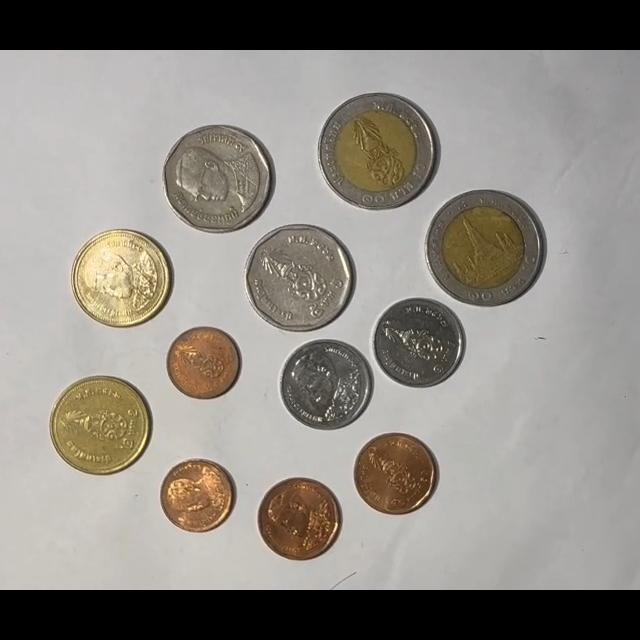1-baht: (279, 339, 373, 432), (372, 297, 465, 389)
10-baht: (318, 92, 438, 212), (426, 190, 545, 307)
2-baht: (50, 376, 152, 476), (72, 230, 170, 330)
25-satang: (159, 459, 236, 534), (166, 327, 240, 399)
5-baht: (162, 125, 274, 235), (244, 224, 355, 333)
50-satang: (257, 477, 341, 561), (353, 433, 437, 516)
